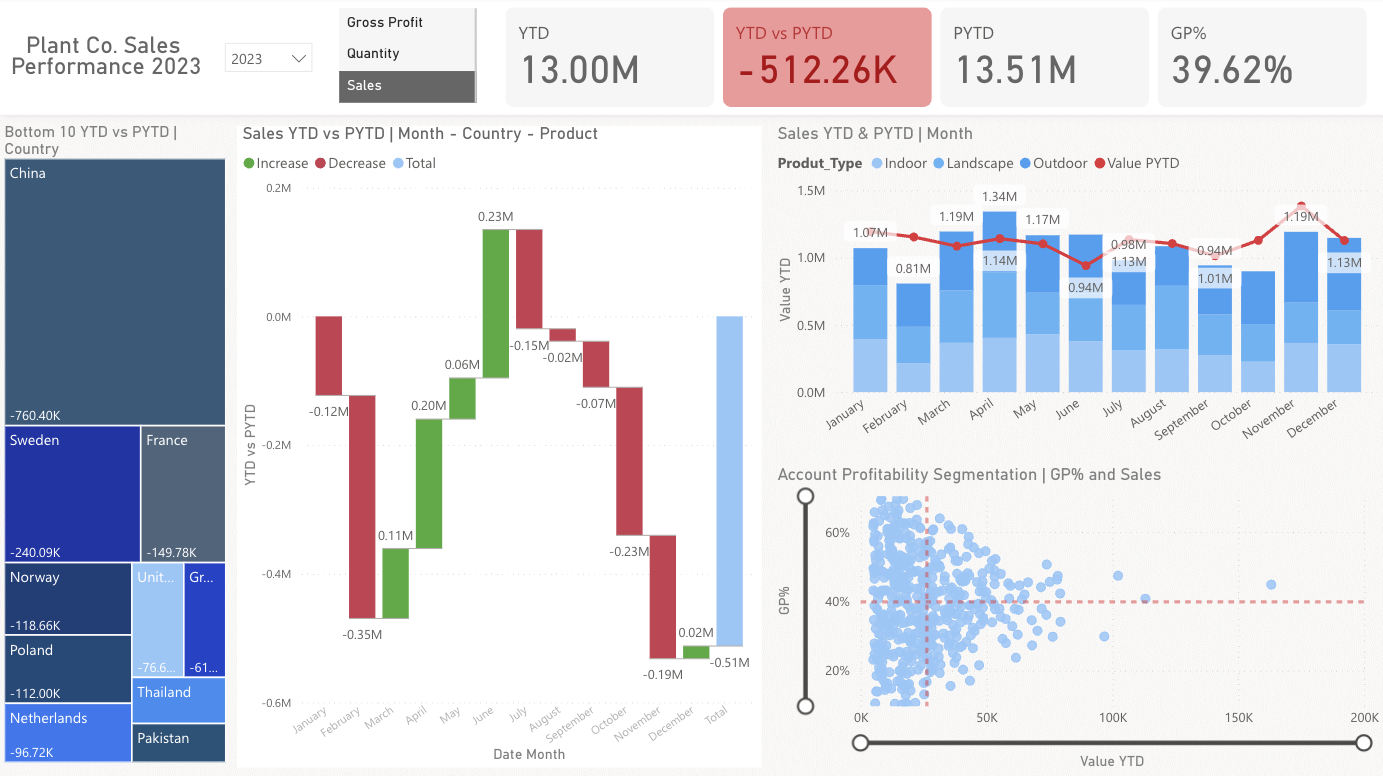

This screenshot's page, from the dashboard's own definition file:
{"tool":"powerbi","page":{"name":"Performance Report","canvas":[1280,720],"ordinal":0},"visuals":[{"type":"cardVisual","fields":{"Data":["_Measures.S_YTD","_Measures.YTD vs PYTD","_Measures.S_PYTD","_Measures.GP%"]},"box":[463,4.2,806.2,102.1],"z":0},{"type":"advancedSlicerVisual","fields":{"Values":["Slc_Values.Values"]},"box":[309.8,5.9,137.3,98],"z":1000},{"type":"slicer","fields":{"Values":["Dim_Date.Date.Variation.Date Hierarchy.Year"]},"box":[198.4,32.7,101.3,50.2],"z":2000},{"type":"treemap","title":"Bottom 10 YTD vs PYTD | Country","fields":{"Values":["_Measures.YTD vs PYTD"],"Group":["Dim_Account.country"]},"box":[0,118.7,214.6,594.4],"z":3000},{"type":"waterfallChart","fields":{"Y":["_Measures.YTD vs PYTD"],"Category":["Dim_Date.Date.Variation.Date Hierarchy.Month","Dim_Account.country","Dim_Product.Produt_Type","Dim_Product.Product_Name"]},"box":[220.3,119.6,485.2,593.5],"z":4000},{"type":"lineStackedColumnComboChart","fields":{"Y":["_Measures.S_YTD"],"Y2":["_Measures.S_PYTD"],"Category":["Dim_Date.Date.Variation.Date Hierarchy.Quarter","Dim_Date.Date.Variation.Date Hierarchy.Month"],"Series":["Dim_Product.Produt_Type"]},"box":[714.1,119.6,565.9,314.3],"z":5000},{"type":"scatterChart","fields":{"Y":["_Measures.GP%"],"X":["_Measures.S_YTD"],"Category":["Dim_Account.Account"]},"box":[714.1,433.9,565.9,285.8],"z":6000},{"type":"card","fields":{"Values":["_Measures._Report title"]},"box":[0,20.9,198.5,68.4],"z":7000}]}

Visuals, with their boxes in screenshot pixels (x1, y1, x2, y2), scaled from the page's 1280x720 canvas onto the 1383x776 screenshot:
cardVisual - _Measures.S_YTD x _Measures.YTD vs PYTD: (x1=500, y1=5, x2=1371, y2=115)
advancedSlicerVisual - Slc_Values.Values: (x1=335, y1=6, x2=483, y2=112)
slicer - Dim_Date.Date.Variation.Date Hierarchy.Year: (x1=214, y1=35, x2=324, y2=89)
"Bottom 10 YTD vs PYTD | Country" treemap: (x1=0, y1=128, x2=232, y2=769)
waterfallChart - _Measures.YTD vs PYTD x Dim_Date.Date.Variation.Date Hierarchy.Month: (x1=238, y1=129, x2=762, y2=769)
lineStackedColumnComboChart - _Measures.S_YTD x _Measures.S_PYTD: (x1=772, y1=129, x2=1382, y2=468)
scatterChart - _Measures.GP% x _Measures.S_YTD: (x1=772, y1=468, x2=1382, y2=775)
card - _Measures._Report title: (x1=0, y1=23, x2=214, y2=96)
